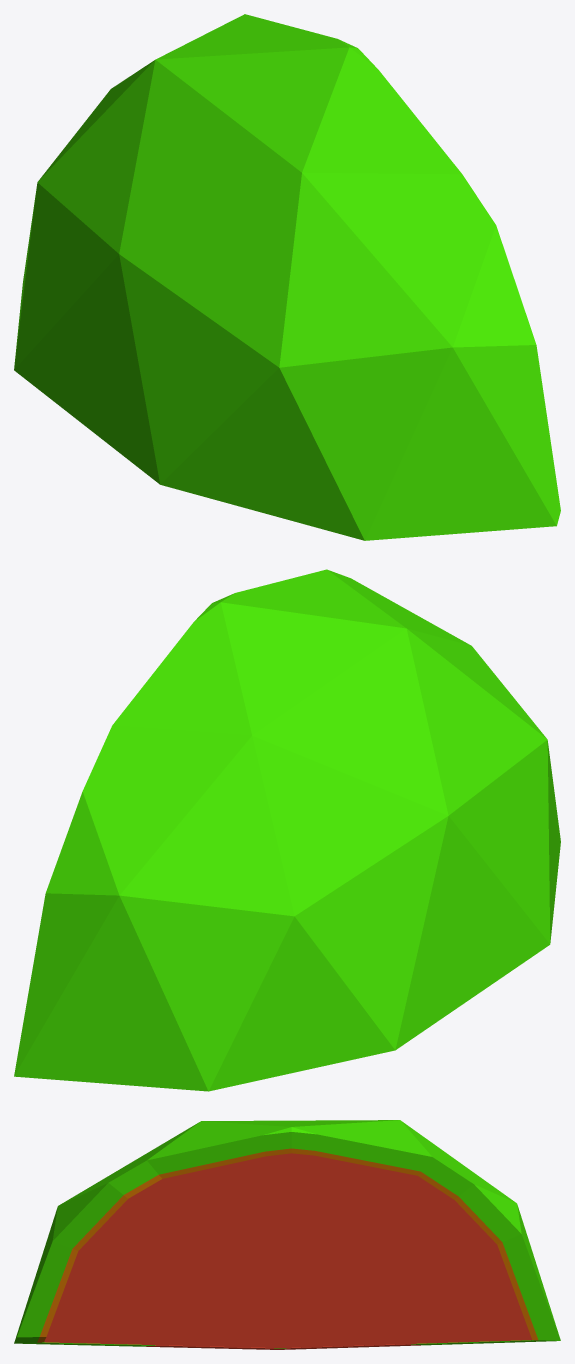
The model's file is watermelon.fbx.
3 renders of one model, top to bottom at view 1: azimuth 30°, elevation 25°; view 2: azimuth 150°, elevation 25°; view 3: azimuth 270°, elevation 25°, orthographic. The views are drawn at different scales.
Parts seen in each view (by area): view 1: Icosphere; view 2: Icosphere; view 3: Icosphere.
Part boxes in pixels (x1,y1,x2,y2): Icosphere: (14,14,560,540); Icosphere: (14,569,560,1091); Icosphere: (14,1120,560,1349).
Bounding box in the file's own units: 30 × 36 × 80.
